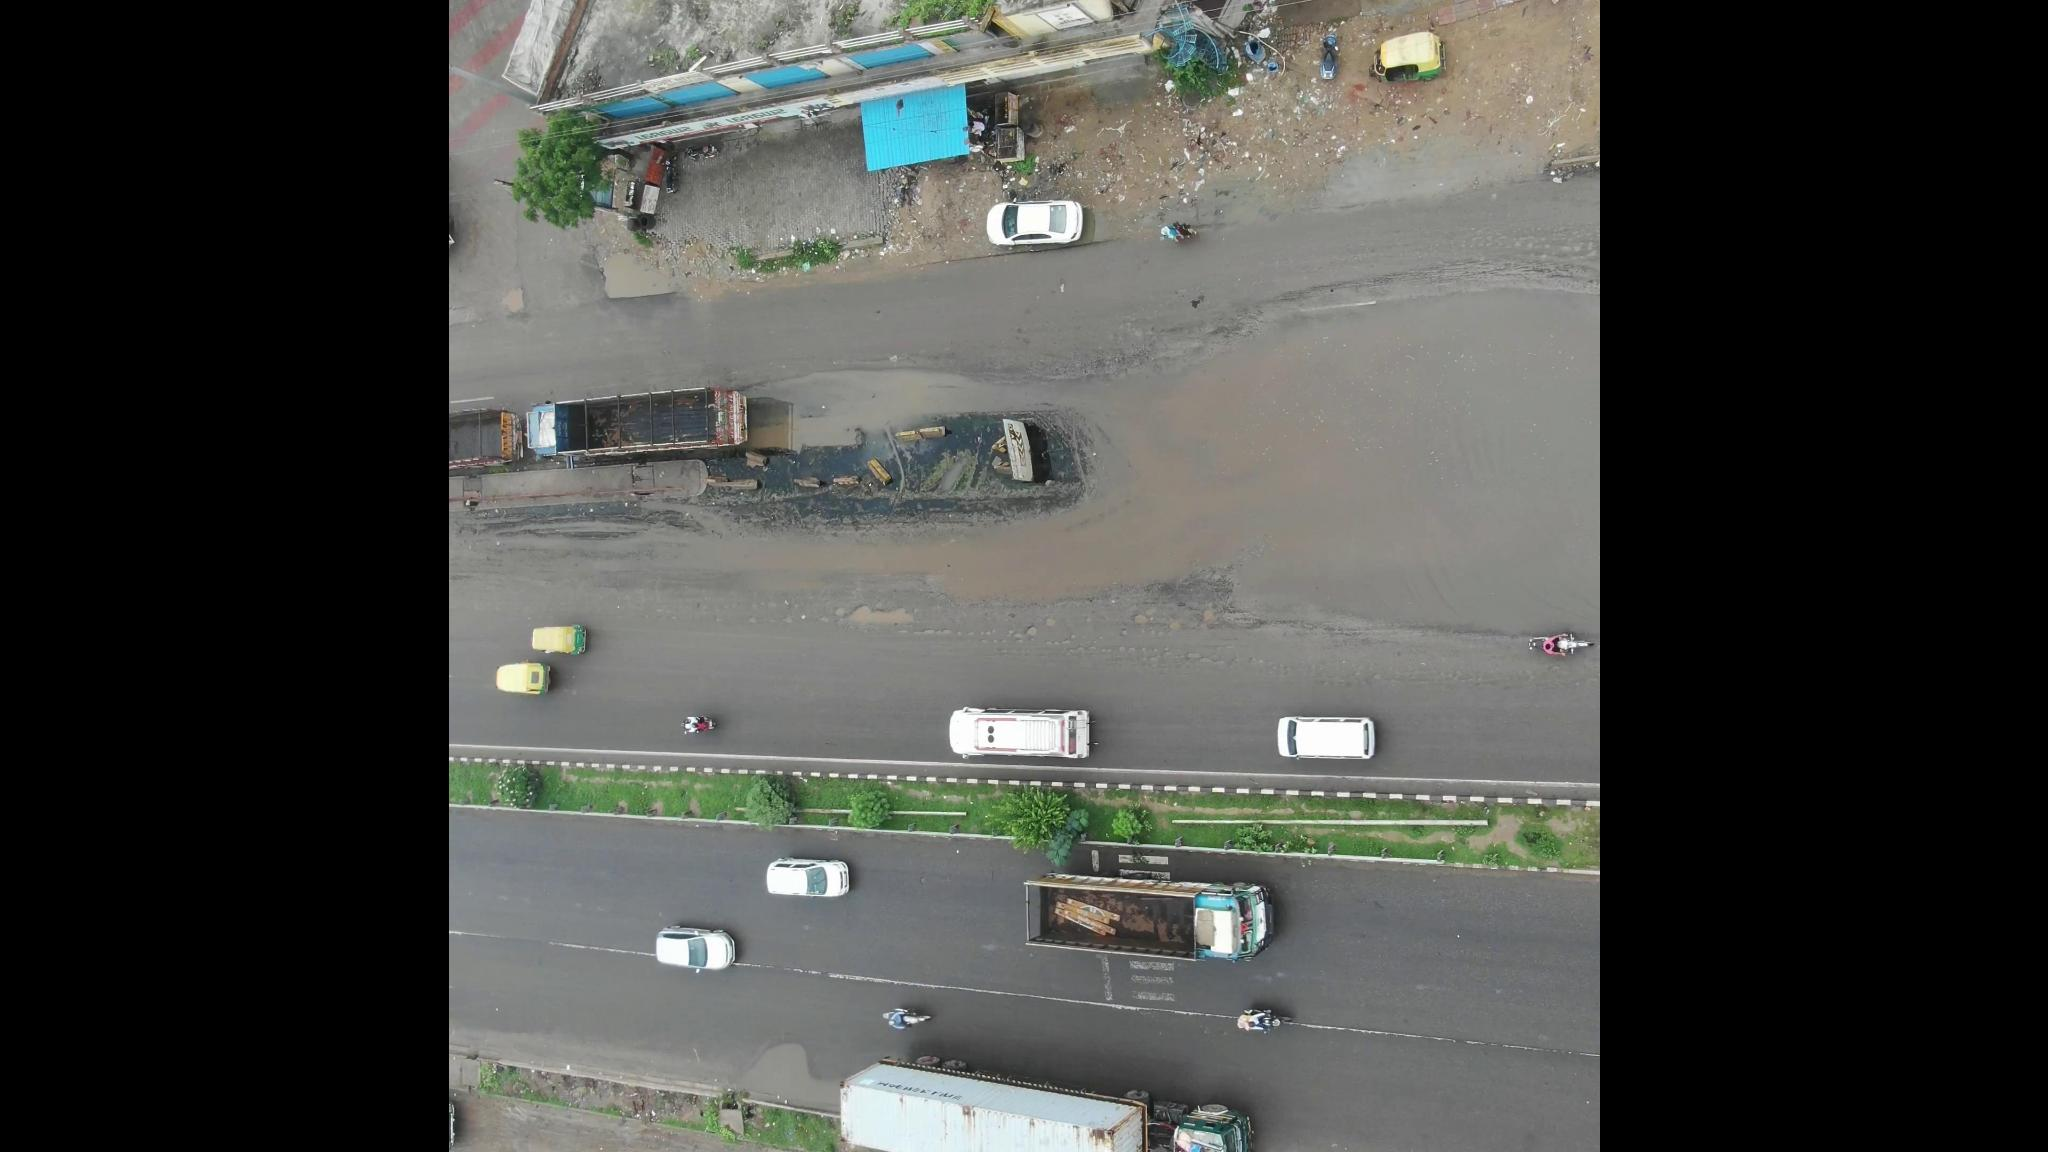Muddy_road: (478, 489, 686, 599)
Potholes: (731, 606, 948, 700), (968, 592, 1215, 671), (454, 883, 603, 919)
Waterlogging: (1229, 229, 1575, 641), (741, 319, 1172, 603), (723, 1004, 836, 1101)
